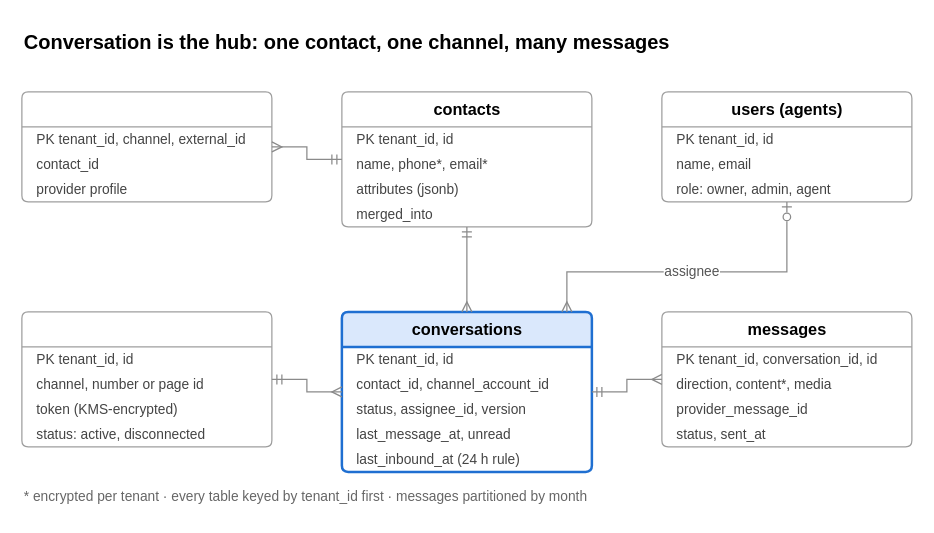
Image size: 934x533. Some labels were removed from this diagram. The box of each missing label's shape, as (x1, y1, x2, y2) in pixels:
channel_accounts: (21, 311, 272, 447)
channel_identities: (21, 91, 272, 202)
